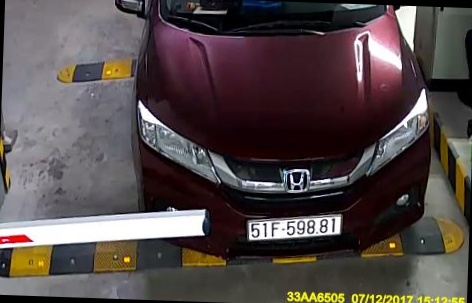plate: (239, 198, 347, 243)
